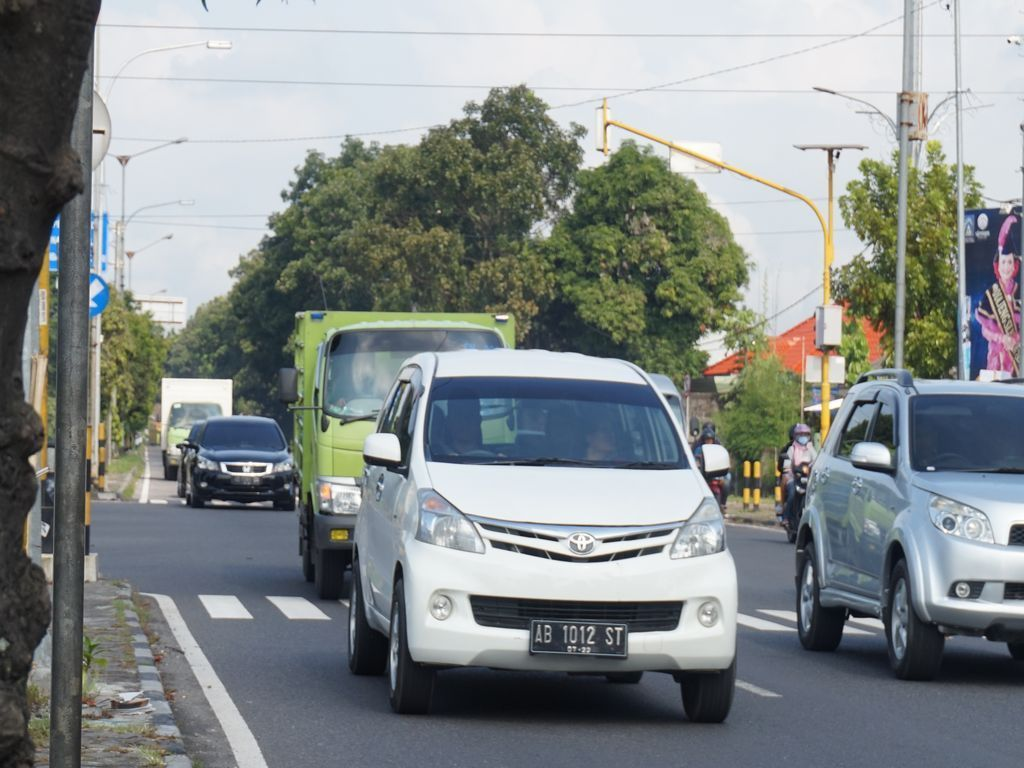lo: (567, 531, 594, 553)
plate: (535, 623, 624, 651)
